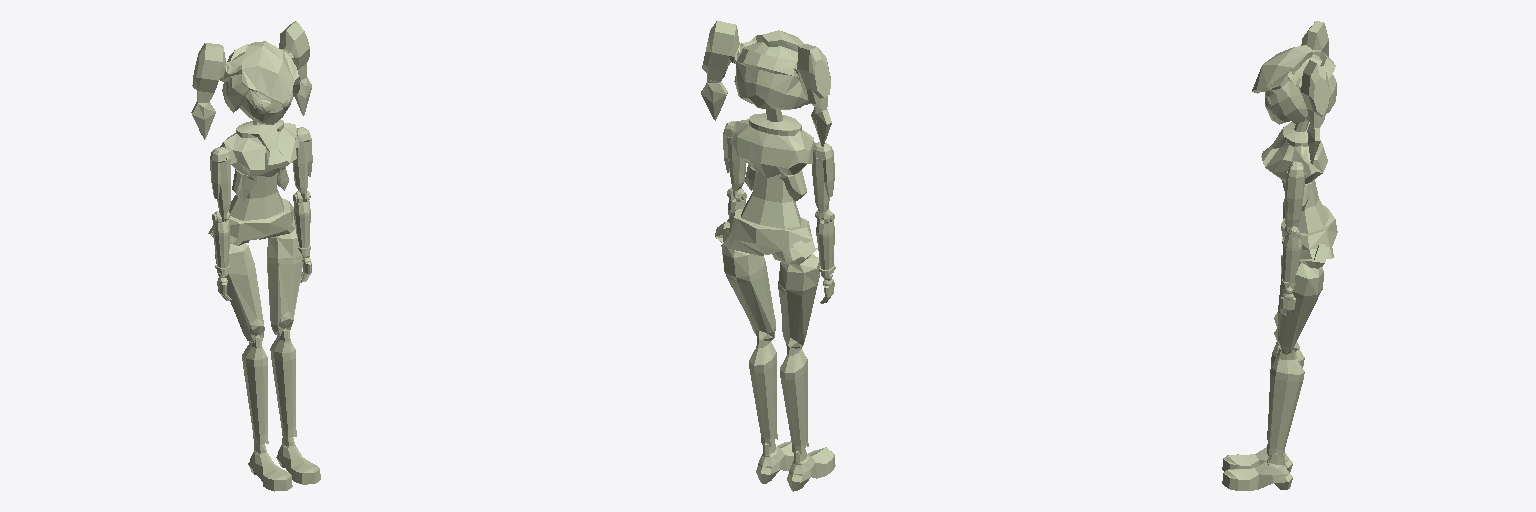
robot.urdf — animebot:
<?xml version="1.0"?>
<robot name="animebot">

  <!-- Sensors -->
  <sensor name="camera" update_rate="27">
    <parent link="head"/>
    <origin xyz="0 0 0" rpy="0 0 0"/>
    <camera>
      <image width="640" height="480" hfov="1.5708" format="RGB8" near="0.01" far="50.0"/>
    </camera>
  </sensor>

  <link name="head">
    <visual>
      <origin rpy="1.5 0 0" xyz="0 0 0.065"/>
      <geometry>
        <mesh filename="package://urdf_tutorial/meshes/anime_robot_head.dae" scale="15.0 15.0 15.0"/>
      </geometry>
    </visual>
  </link>

  <link name="base_link">
    <visual>
      <origin rpy="1.5 0 0" xyz="0 0 0.05"/>
      <geometry>
        <mesh filename="package://urdf_tutorial/meshes/anime_robot_upper_torso.dae" scale="15.0 15.0 15.0"/>
      </geometry>
    </visual>
  </link>

  <link name="l_torso">
    <visual>
      <origin rpy="1.5 0 0" xyz="0 0 0.03"/>
      <geometry>
        <mesh filename="package://urdf_tutorial/meshes/anime_robot_lower_torso.dae" scale="15 15 15" />
      </geometry>
    </visual>
  </link>


  <!-- Arm Links -->
  <link name="r_upper_arm">
    <visual>
      <origin rpy="1.5 0 0" xyz="0 -0.02 -0.1"/>
      <geometry>
        <mesh filename="package://urdf_tutorial/meshes/anime_robot_right_upper_arm.dae" scale="15 15 15"/>
      </geometry>
    </visual>
  </link>
  <link name="r_lower_arm">
    <visual>
      <origin rpy="1.5 0 0" xyz="0 -0.02 -0.1"/>
      <geometry>
        <mesh filename="package://urdf_tutorial/meshes/anime_robot_lower_arm.dae" scale="15 15 15" />
      </geometry>
    </visual>
  </link>
  <link name="r_hand">
    <visual>
      <origin rpy="1.5 0 0" xyz="0.0 -0.02 -0.04"/>
      <geometry>
        <mesh filename="package://urdf_tutorial/meshes/anime_robot_left_hand.dae" scale="15 15 15" />
      </geometry>
    </visual>
  </link>



  <link name="l_upper_arm">
    <visual>
      <origin rpy="1.5 0 0" xyz="0 -0.02 -0.1"/>
      <geometry>
        <mesh filename="package://urdf_tutorial/meshes/anime_robot_left_upper_arm.dae" scale="15 15 15"/>
      </geometry>
    </visual>
  </link>
  <link name="l_lower_arm">
    <visual>
      <origin rpy="1.5 0 0" xyz="0 -0.02 -0.1"/>
      <geometry>
        <mesh filename="package://urdf_tutorial/meshes/anime_robot_lower_arm.dae" scale="15 15 15" />
      </geometry>
    </visual>
  </link>
  <link name="l_hand">
    <visual>
      <origin rpy="1.5 0 0" xyz="0.0 -0.02 -0.04"/>
      <geometry>
        <mesh filename="package://urdf_tutorial/meshes/anime_robot_right_hand.dae" scale="15 15 15" />
      </geometry>
    </visual>
  </link>

  <!-- Leg links -->
  <link name="r_upper_leg">
    <visual>
      <origin rpy="1.5 0 0" xyz="0 -0.05 -0.025"/>
      <geometry>
        <mesh filename="package://urdf_tutorial/meshes/anime_robot_right_upper_leg.dae" scale="15 15 15"/>
      </geometry>
    </visual>
  </link>
  <link name="r_lower_leg">
    <visual>
      <origin rpy="1.5 0 0" xyz="0.0 -0.02 -0.18"/>
      <geometry>
        <mesh filename="package://urdf_tutorial/meshes/anime_robot_lower_leg.dae" scale="15 15 15" />
      </geometry>
    </visual>
  </link>
  <link name="r_foot">
    <visual>
      <origin rpy="1.5 0 0" xyz="0 -0.02 -0.1"/>
      <geometry>
        <mesh filename="package://urdf_tutorial/meshes/anime_robot_foot.dae" scale="15 15 15"/>
      </geometry>
    </visual>
  </link>


  <link name="l_upper_leg">
    <visual>
      <origin rpy="1.5 0 0" xyz="0 -0.05 -0.025"/>
      <geometry>
        <mesh filename="package://urdf_tutorial/meshes/anime_robot_left_upper_leg.dae" scale="15 15 15"/>
      </geometry>
    </visual>
  </link>
  <link name="l_lower_leg">
    <visual>
      <origin rpy="1.5 0 0" xyz="0.0 -0.02 -0.18"/>
      <geometry>
        <mesh filename="package://urdf_tutorial/meshes/anime_robot_lower_leg.dae" scale="15 15 15" />
      </geometry>
    </visual>
  </link>
  <link name="l_foot">
    <visual>
      <origin rpy="1.5 0 0" xyz="0 -0.02 -0.1"/>
      <geometry>
        <mesh filename="package://urdf_tutorial/meshes/anime_robot_foot.dae" scale="15 15 15"/>
      </geometry>
    </visual>
  </link>


  <!--  JOINTS SECTION   -->
  <joint name="neck" type="continuous">
    <parent link="base_link"/>
    <child link="head"/>
    <axis xyz="0 0 1"/>
    <origin rpy="0 0 0" xyz="0 0 0.23"/>
  </joint>
  <joint name="waist" type="continuous">
    <parent link="base_link"/>
    <child link="l_torso"/>
    <axis xyz="0 0 1"/>
    <origin rpy="0 0 0" xyz="0 0 -0.25"/>
  </joint>


  <joint name="r_shoulder" type="continuous">
    <parent link="base_link"/>
    <child link="r_upper_arm"/>
    <axis xyz="1 0 0"/>
    <origin rpy="0 0 0" xyz="0.2 0 0.04"/>
  </joint>
  <!-- -->
  <joint name="r_elbow" type="continuous">
    <parent link="r_upper_arm"/>
    <child link="r_lower_arm"/>
    <axis xyz="1 0 0"/>
    <origin rpy="0 0 0" xyz="-0.01 -0.01 -0.25"/>
  </joint>
  <joint name="r_wrist" type="continuous">
    <parent link="r_lower_arm"/>
    <child link="r_hand"/>
    <axis xyz="1 0 0"/>
    <origin rpy="0 0 0" xyz="0.0 -0.015 -0.28"/>
  </joint>



  <joint name="l_shoulder" type="continuous">
    <parent link="base_link"/>
    <child link="l_upper_arm"/>
    <axis xyz="1 0 0"/>
    <origin rpy="0 0 0" xyz="-0.2 0 0.04"/>
  </joint>
  <!-- -->
  <joint name="l_elbow" type="continuous">
    <parent link="l_upper_arm"/>
    <child link="l_lower_arm"/>
    <axis xyz="1 0 0"/>
    <origin rpy="0 0 0" xyz="-0.01 -0.01 -0.25"/>
  </joint>
  <joint name="l_wrist" type="continuous">
    <parent link="l_lower_arm"/>
    <child link="l_hand"/>
    <axis xyz="1 0 0"/>
    <origin rpy="0 0 0" xyz="0.0 -0.015 -0.28"/>
  </joint>


  <joint name="r_hip" type="continuous">
    <parent link="l_torso"/>
    <child link="r_upper_leg"/>
    <axis xyz="1 0 0"/>
    <origin rpy="0 0 0" xyz="-0.1 0.05 -0.1"/>
  </joint>
  <!-- -->
  <joint name="r_knee" type="continuous">
    <parent link="r_upper_leg"/>
    <child link="r_lower_leg"/>
    <axis xyz="1 0 0"/>
    <origin rpy="0 0 0" xyz="0.04 -0.07 -0.47"/>
  </joint>
  <joint name="r_ankle" type="continuous">
    <parent link="r_lower_leg"/>
    <child link="r_foot"/>
    <axis xyz="1 0 0"/>
    <origin rpy="0 0 0" xyz="0.005 -0.025 -0.5"/>
  </joint>


  <joint name="l_hip" type="continuous">
    <parent link="l_torso"/>
    <child link="l_upper_leg"/>
    <axis xyz="1 0 0"/>
    <origin rpy="0 0 0" xyz="0.1 0.05 -0.1"/>
  </joint>
  <!-- -->
  <joint name="l_knee" type="continuous">
    <parent link="l_upper_leg"/>
    <child link="l_lower_leg"/>
    <axis xyz="1 0 0"/>
    <origin rpy="0 0 0" xyz="-0.02 -0.07 -0.47"/>
  </joint>
  <joint name="l_ankle" type="continuous">
    <parent link="l_lower_leg"/>
    <child link="l_foot"/>
    <axis xyz="1 0 0"/>
    <origin rpy="0 0 0" xyz="0.005 -0.025 -0.5"/>
  </joint>


</robot>

--- Facts derived from the render (not from the file) ---
3 views of the same robot in one strip: view 1: azimuth 30°, elevation 25°; view 2: azimuth 150°, elevation 25°; view 3: azimuth 270°, elevation 25° (orthographic).
Model animebot with 15 links and 14 joints (14 continuous), rooted at base_link, posed all joints at 0.
Links seen in each view (by area): view 1: head, base_link, l_torso, l_upper_leg, r_upper_leg, r_lower_leg, l_lower_leg, l_upper_arm, r_foot, l_foot, r_upper_arm, l_lower_arm (+1 smaller); view 2: head, l_torso, base_link, l_upper_leg, r_upper_leg, r_lower_leg, l_lower_leg, r_foot, l_upper_arm, l_foot, l_lower_arm, r_upper_arm; view 3: head, l_lower_leg, l_upper_leg, base_link, l_torso, l_foot, r_upper_arm, r_lower_arm, r_foot.
Link boxes in pixels (left/top/right/bottom): head: left=191, top=21, right=311, bottom=139; base_link: left=220, top=119, right=299, bottom=200; l_torso: left=211, top=173, right=295, bottom=245; l_upper_leg: left=267, top=229, right=302, bottom=335; r_upper_leg: left=208, top=226, right=264, bottom=342; r_lower_leg: left=242, top=335, right=268, bottom=445; l_lower_leg: left=270, top=328, right=296, bottom=438; l_upper_arm: left=210, top=147, right=230, bottom=221; r_foot: left=248, top=441, right=292, bottom=491; l_foot: left=276, top=434, right=320, bottom=484; r_upper_arm: left=292, top=127, right=312, bottom=201; l_lower_arm: left=212, top=211, right=230, bottom=275; head: left=701, top=21, right=831, bottom=146; l_torso: left=723, top=170, right=815, bottom=262; base_link: left=730, top=109, right=815, bottom=201; l_upper_leg: left=715, top=222, right=775, bottom=340; r_upper_leg: left=778, top=240, right=819, bottom=348; r_lower_leg: left=780, top=346, right=808, bottom=453; l_lower_leg: left=749, top=339, right=777, bottom=446; r_foot: left=787, top=447, right=835, bottom=491; l_upper_arm: left=812, top=142, right=834, bottom=219; l_foot: left=756, top=441, right=793, bottom=483; l_lower_arm: left=815, top=210, right=835, bottom=277; r_upper_arm: left=723, top=121, right=745, bottom=198; head: left=1252, top=21, right=1336, bottom=163; l_lower_leg: left=1267, top=347, right=1304, bottom=456; l_upper_leg: left=1274, top=244, right=1327, bottom=354; base_link: left=1261, top=121, right=1327, bottom=210; l_torso: left=1281, top=179, right=1337, bottom=258; l_foot: left=1222, top=453, right=1292, bottom=490; r_upper_arm: left=1285, top=161, right=1305, bottom=231; r_lower_arm: left=1282, top=226, right=1301, bottom=289; r_foot: left=1222, top=444, right=1292, bottom=472.
Bounding box of the posed robot: 0.5941 × 0.4829 × 2.02 m (x, y, z).
15 mesh visuals loaded from 12 distinct referenced files (12 Collada DAE).